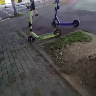beam: (49, 1, 83, 29)
gcooter: (23, 4, 63, 45)
